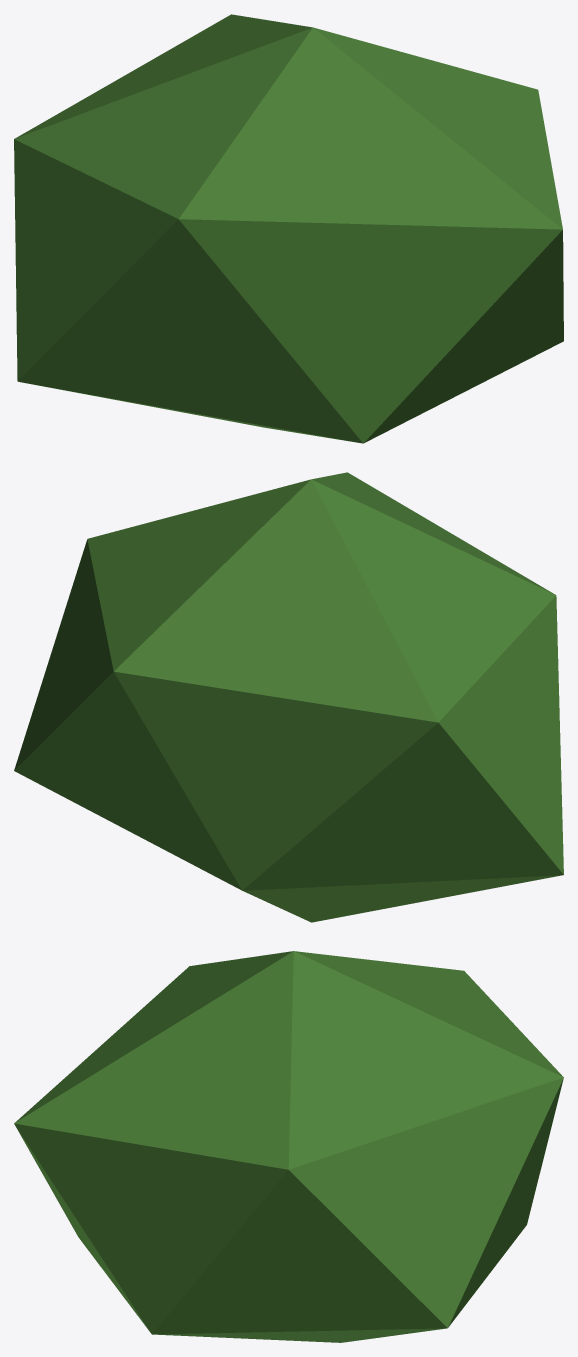
The model's file is Cali_1.fbx.
3 views of the same model, one above another, from view 1: azimuth 30°, elevation 25°; view 2: azimuth 150°, elevation 25°; view 3: azimuth 270°, elevation 25° (orthographic). The views are drawn at different scales.
Parts seen in each view (by area): view 1: Cali_1; view 2: Cali_1; view 3: Cali_1.
Boxes of the visible parts, box(x1,y1,x2,y2) form: Cali_1: box(14, 14, 563, 443); Cali_1: box(14, 472, 563, 922); Cali_1: box(14, 951, 563, 1342).
Bounding box in the file's own units: 1.11 × 0.8818 × 1.09.
